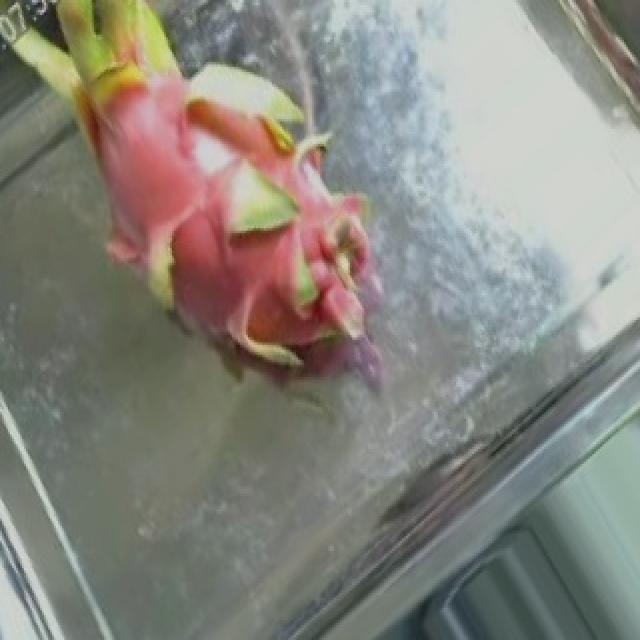fruit: (2, 3, 426, 429)
